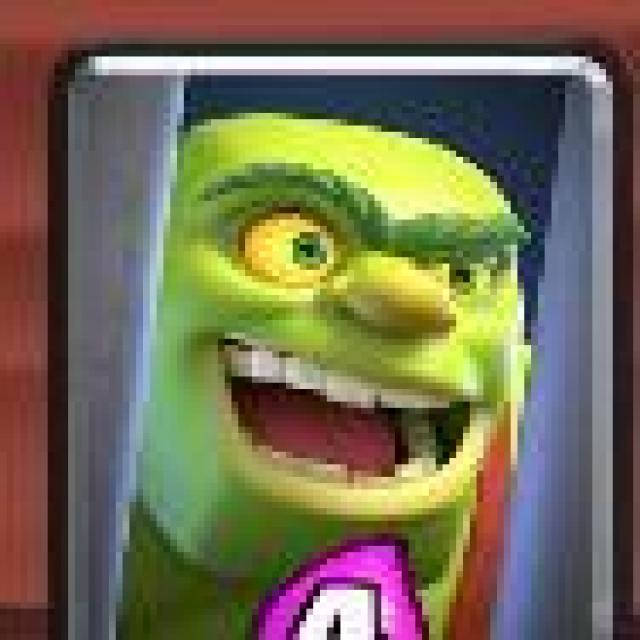Goblin_Cage: (47, 42, 629, 640)
